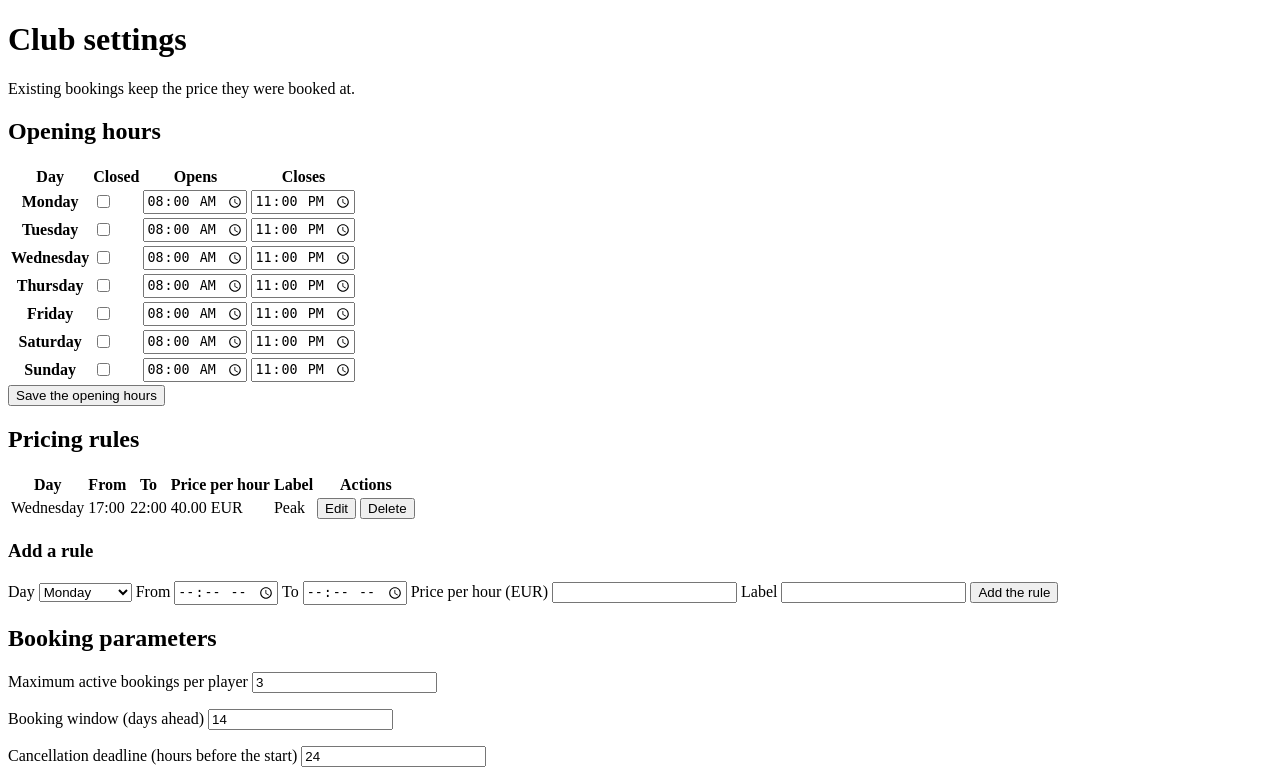
Test: Club settings page › sets the opening and closing time of each day
Expected: the cell "Peak" is shown, left=273, top=496, right=314, bottom=520
Replace the text in the time field named "Monday opens" with "09:00" at [196, 202], box left=144, top=190, right=248, bottom=214
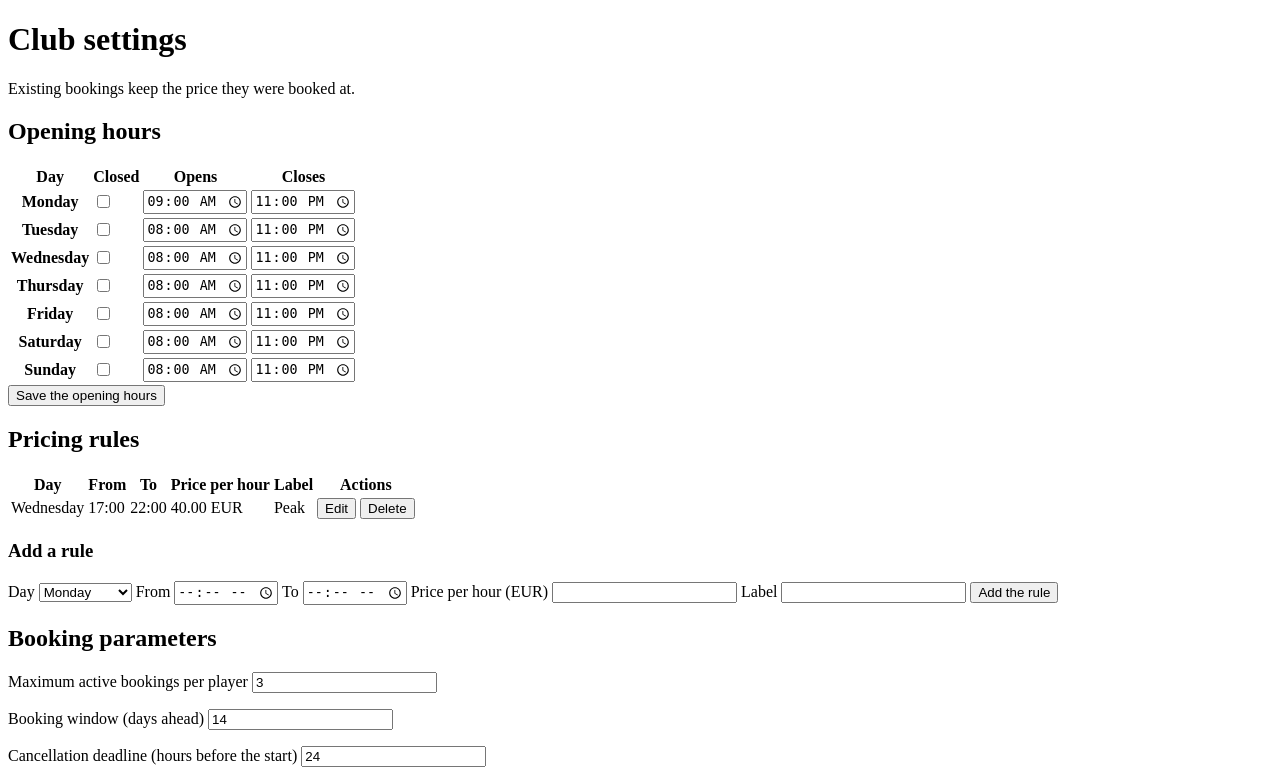
Click the checkbox named "Sunday closed" at [104, 369], box left=97, top=363, right=110, bottom=376
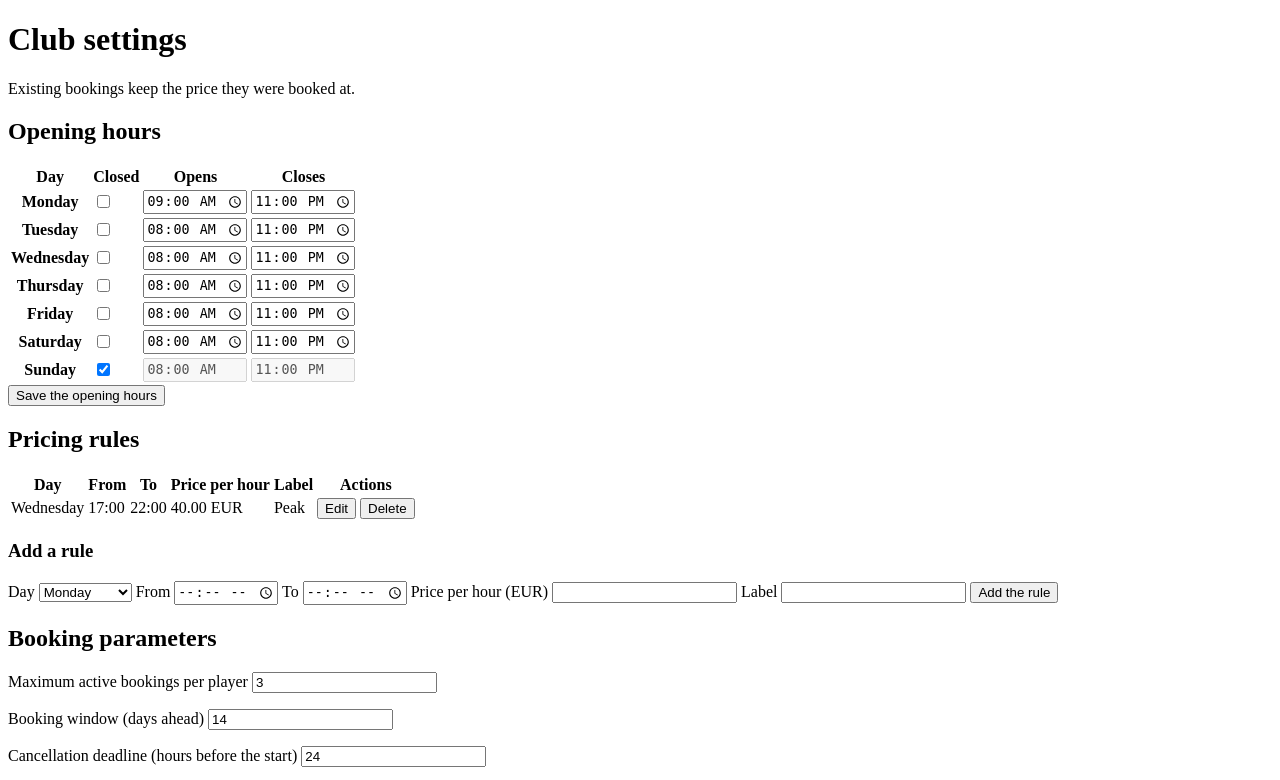
Expected: the time field named "Sunday opens" is disabled, left=144, top=358, right=248, bottom=382
Click the button "Save the opening hours" at [86, 395], box left=8, top=385, right=165, bottom=406
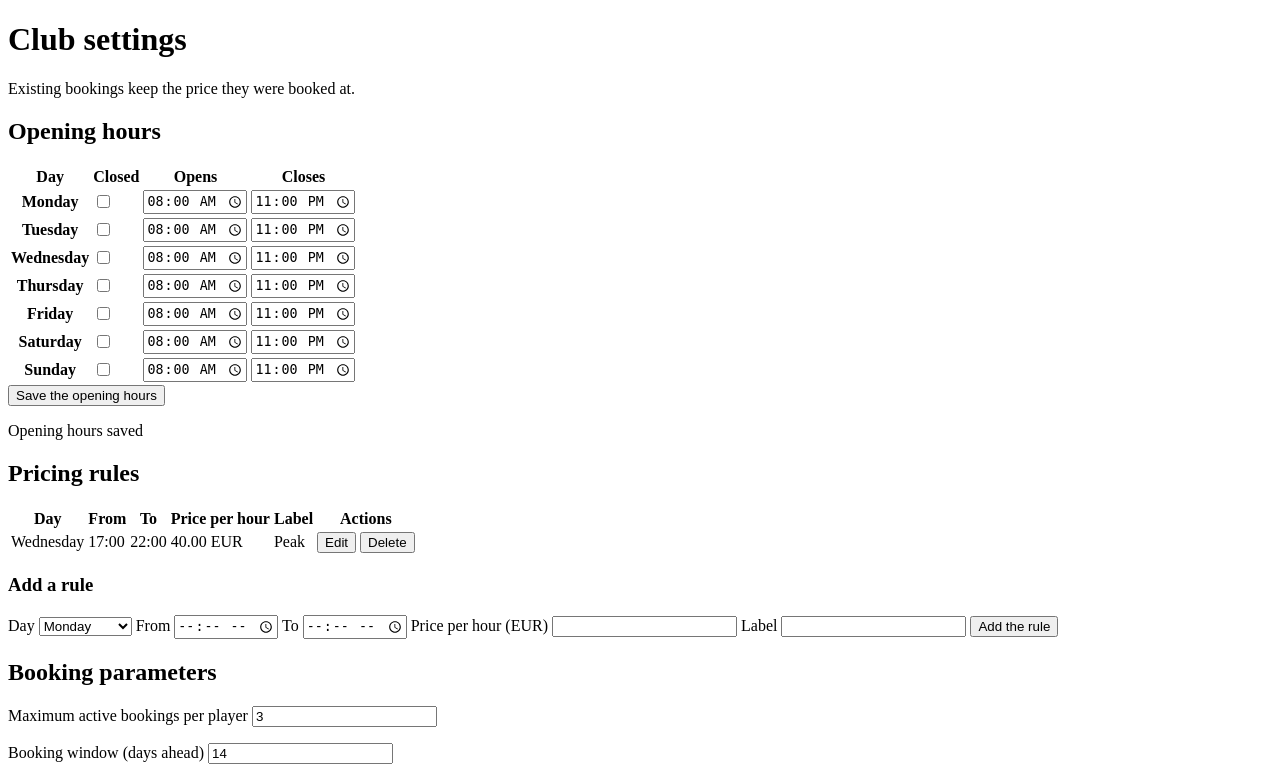
Expected: the text "Opening hours saved" is shown, left=8, top=422, right=143, bottom=439
